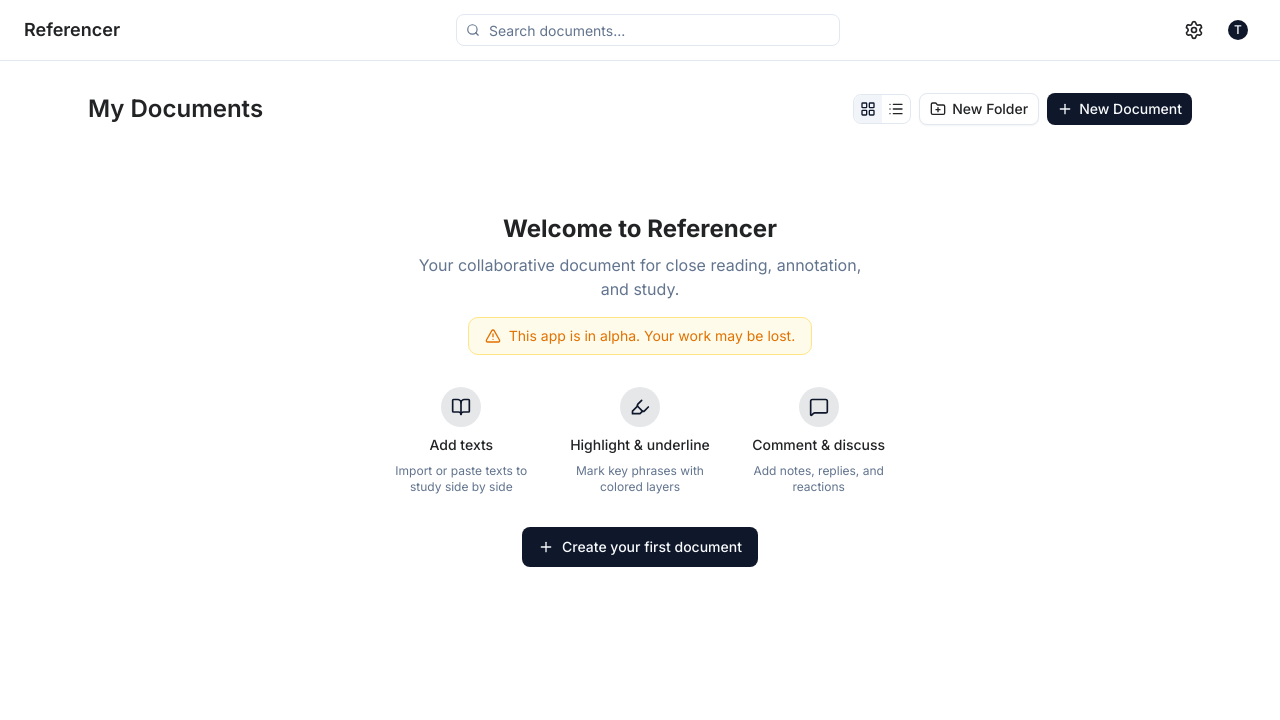
HubPage › when user is authenticated › then closes the dialog after creating a document
Open the dialog
Click the button with test id "newDocumentButton": [1120, 109] box [1047,93,1192,125]
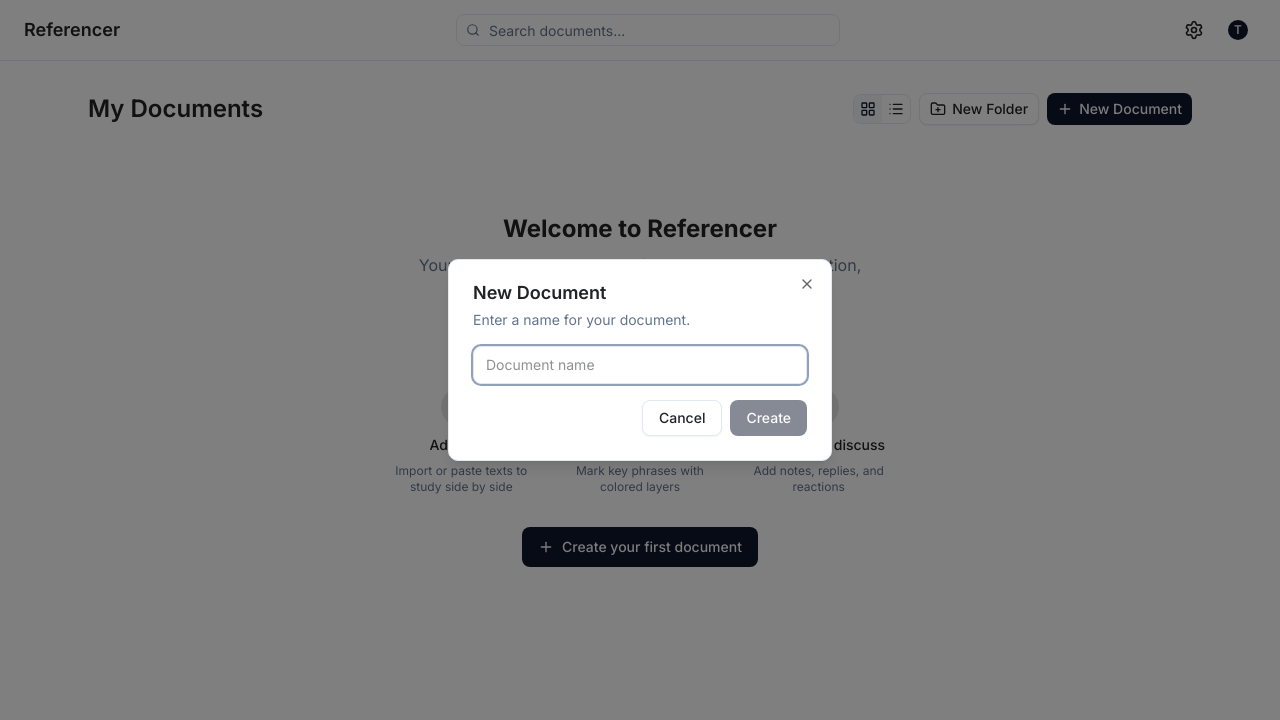
Check: the dialog with test id "newDocumentDialog" is shown, box [448,259,832,461]
Type a name and submit
In the field with test id "newDocumentNameInput": [640, 365] box [473,346,807,384], type "Test"
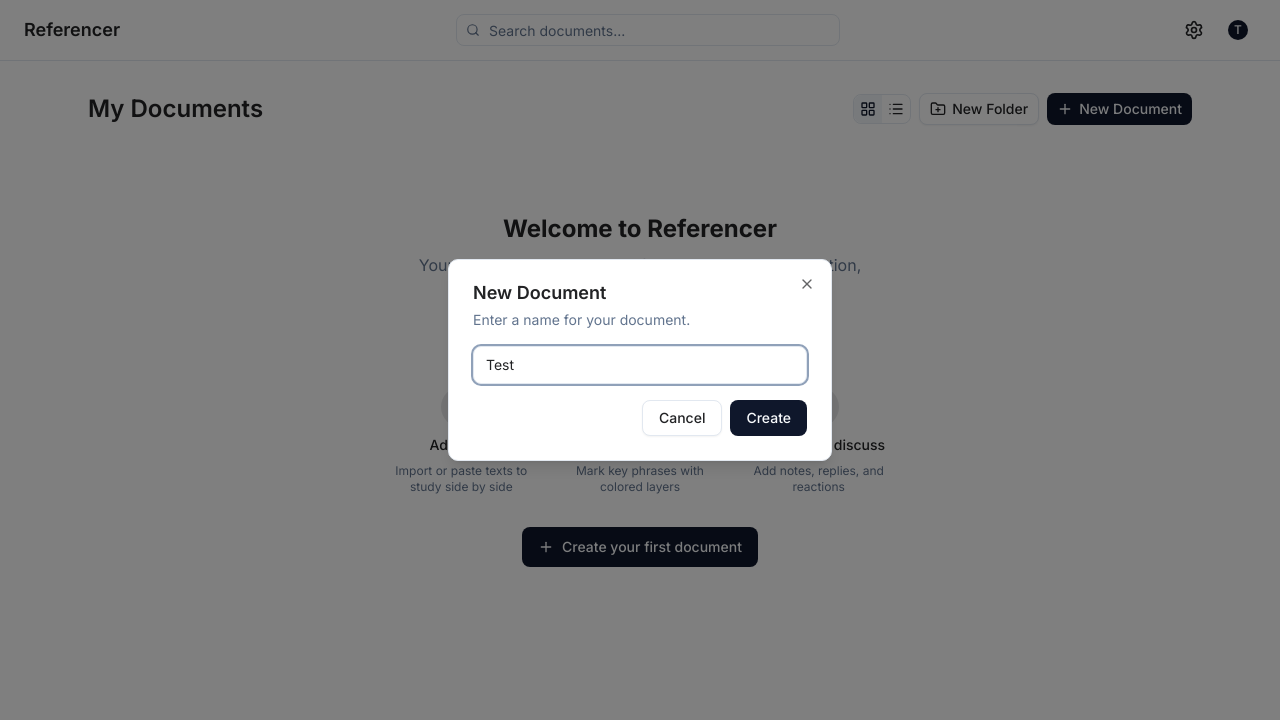
Click the button with test id "newDocumentCreateButton": [769, 418] box [730,400,807,436]
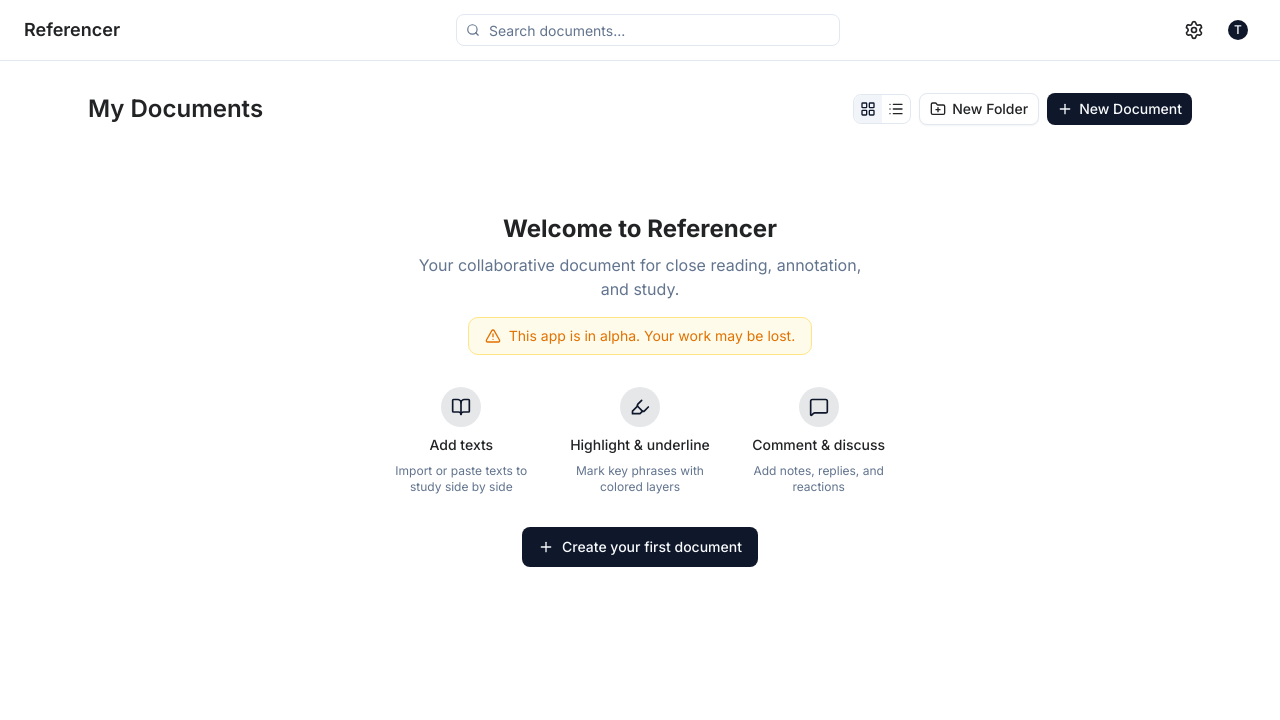
Check: the dialog with test id "newDocumentDialog" is gone
